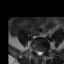CCS_normal: (39, 49, 41, 57)
LFS_stenosis: (43, 49, 45, 54)
LLS_normal: (41, 49, 43, 55)
RFS_stenosis: (34, 48, 36, 53)
RLS_normal: (37, 49, 39, 55)
